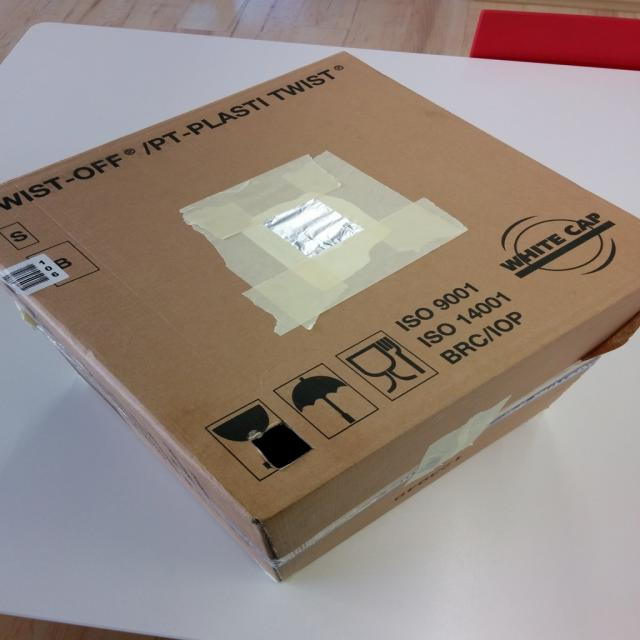Box: (0, 48, 640, 584)
